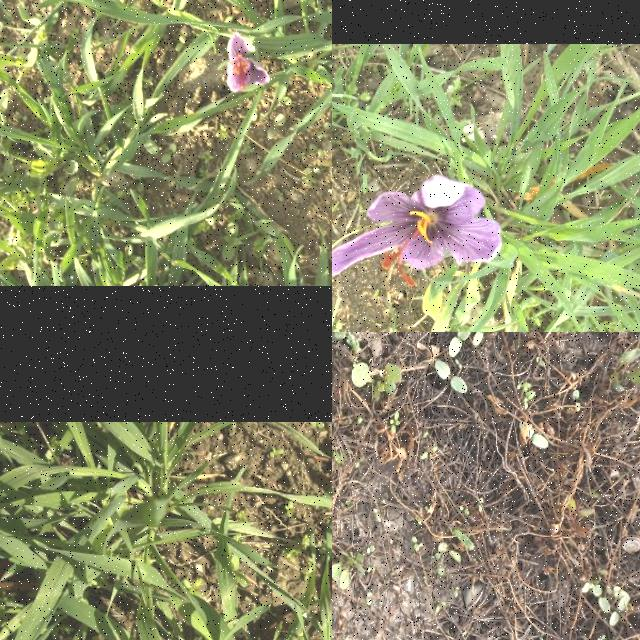flower: (332, 178, 501, 286), (226, 34, 272, 92)
